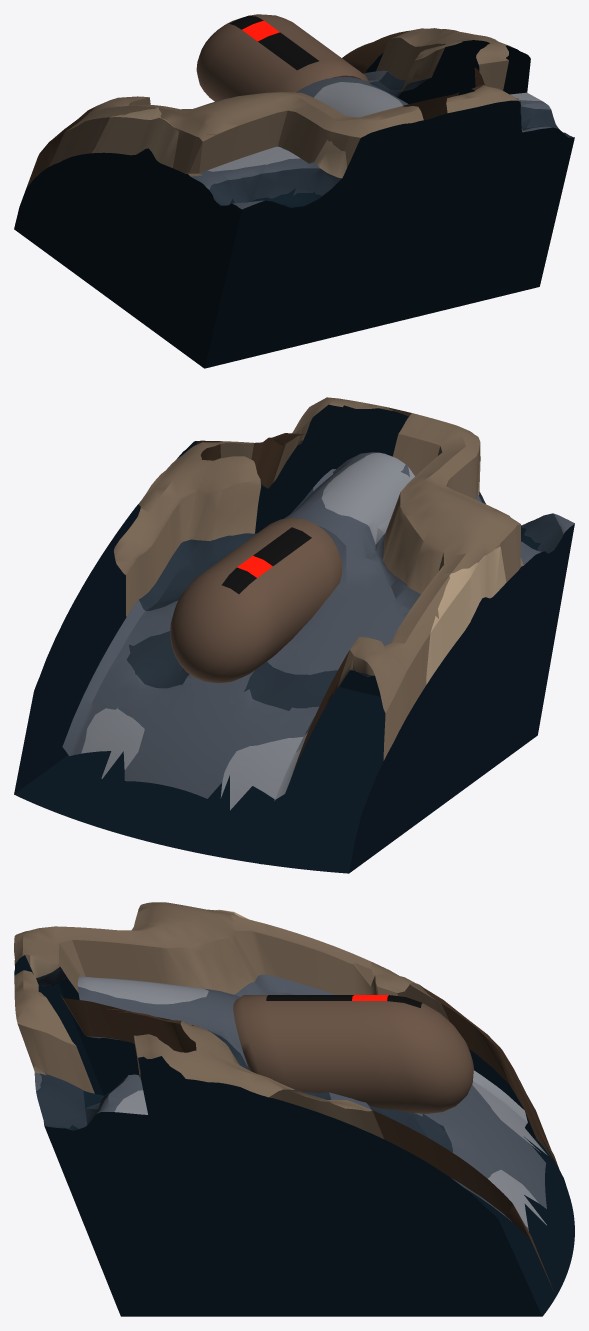
Rendered from armour_dome_wreck_tm.glb.
The picture shows the model from 3 angles, top to bottom: view 1: azimuth 30°, elevation 25°; view 2: azimuth 150°, elevation 25°; view 3: azimuth 270°, elevation 25°; orthographic projection. The views are drawn at different scales.
Visible parts, largest first — view 1: armour_dome_wreck_tm; view 2: armour_dome_wreck_tm; view 3: armour_dome_wreck_tm.
Part boxes in pixels (<box>): armour_dome_wreck_tm: <box>14,14,574,368</box>; armour_dome_wreck_tm: <box>14,397,574,873</box>; armour_dome_wreck_tm: <box>14,902,574,1316</box>.
Size of the model in its own units: 24 by 17.28 by 31.9.
